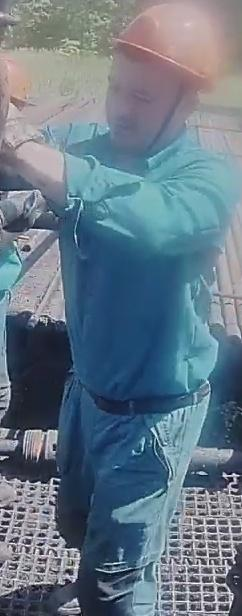gloves: (0, 111, 45, 182)
helmet: (101, 1, 225, 95), (0, 48, 41, 115)
vest: (57, 129, 232, 415)
